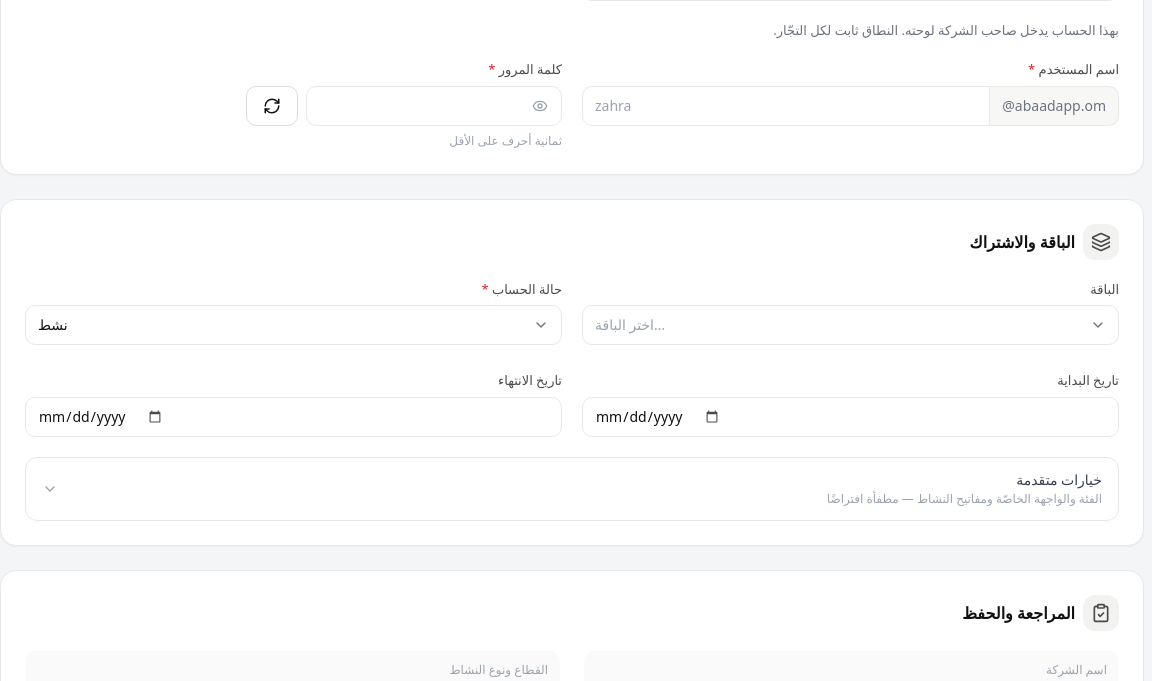
Scenario: نموذجُ الشركة › اختيارُ الأساسيّة يعرض أسطرَها الخمسة وحدها
This screenshot has width=1152, height=681.
(page scrolled)
Click the dropdown labelled "اختر الباقة…" at (624, 324), box x1=582 y1=305 x2=1119 y2=345
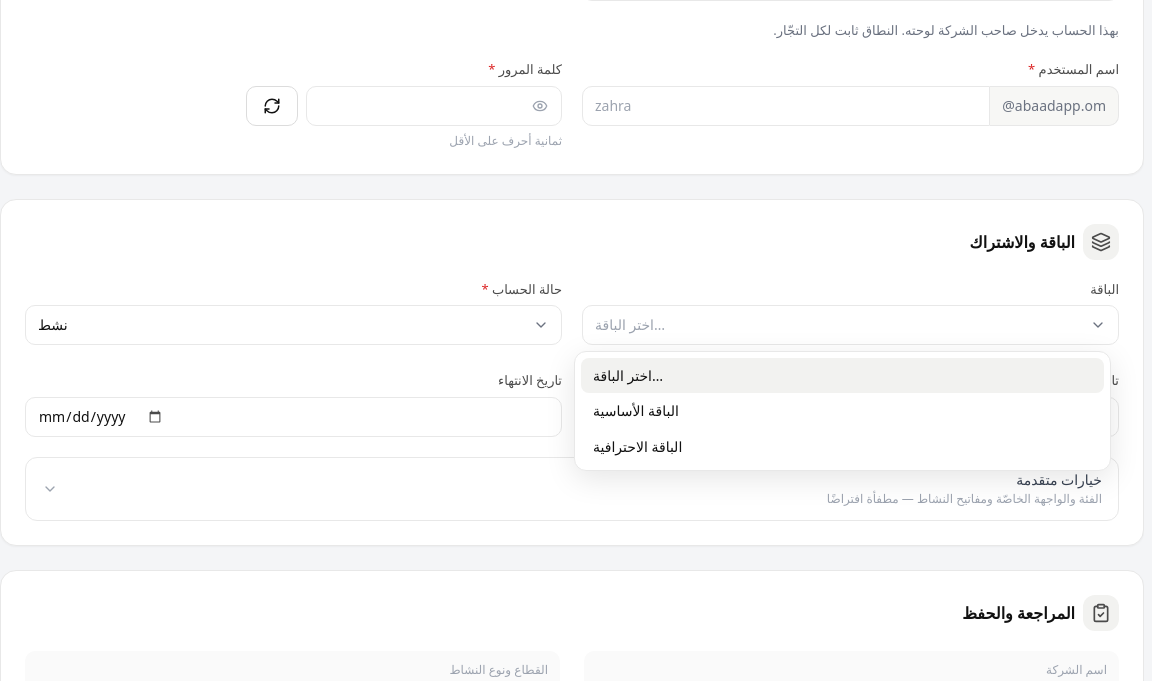
Click the option "الباقة الأساسية" at (636, 411), box x1=593 y1=401 x2=679 y2=420
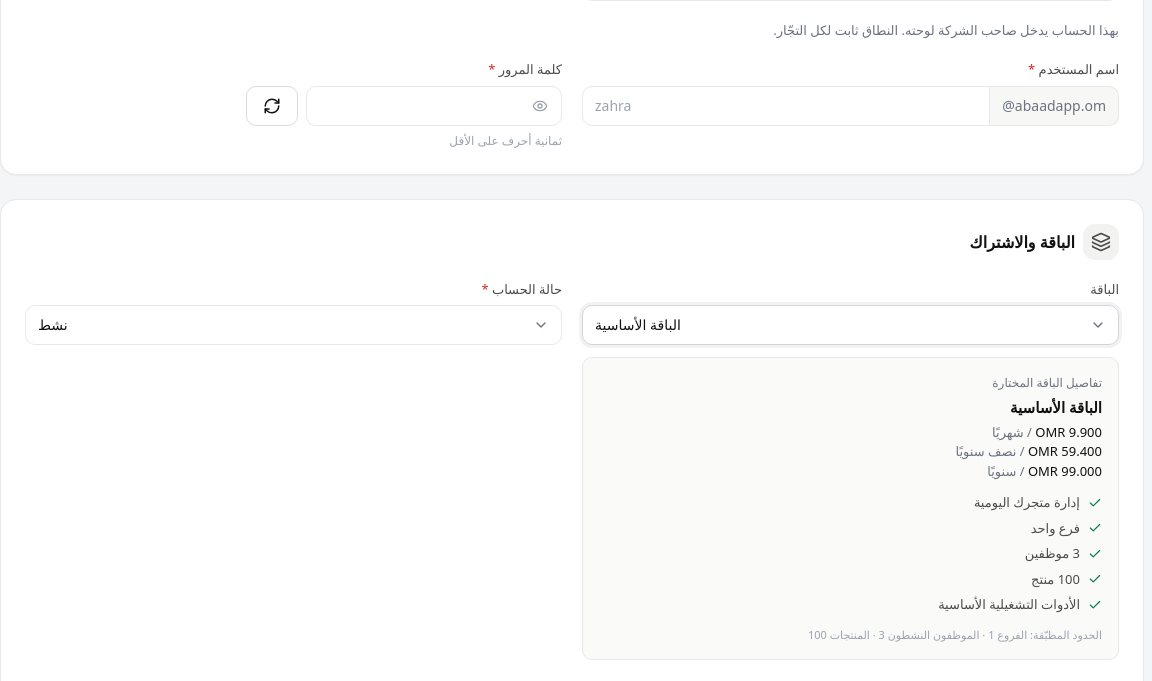
Now the number of elements with test id "plan-summary" is 1, box x1=582 y1=357 x2=1119 y2=660
